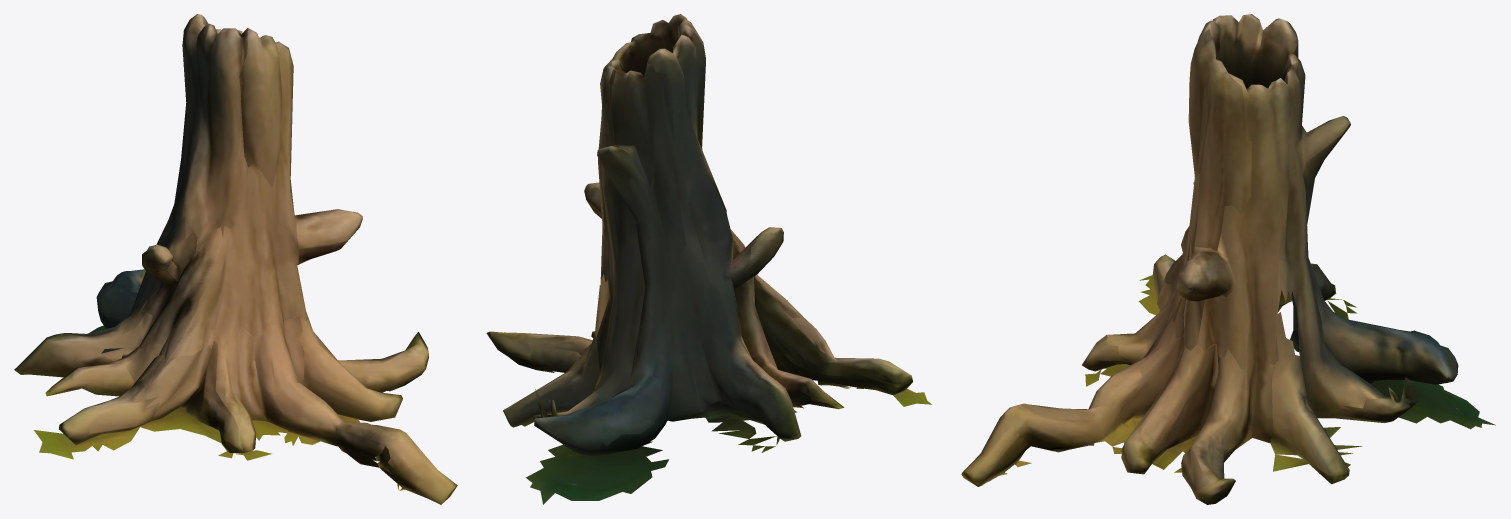
Rendered from terrain2_oak_0.glb.
The picture shows the model from 3 angles, left to right: view 1: azimuth 30°, elevation 25°; view 2: azimuth 150°, elevation 25°; view 3: azimuth 270°, elevation 25°; orthographic projection. The views are drawn at different scales.
Parts seen in each view (by area): view 1: oak_0; view 2: oak_0; view 3: oak_0.
Boxes of the visible parts, x1=… form: oak_0: x1=14, y1=14, x2=457, y2=504; oak_0: x1=486, y1=14, x2=931, y2=504; oak_0: x1=961, y1=14, x2=1495, y2=504.
Size of the model in its own units: 37.88 by 35.59 by 40.9.
1 material, 1 textured.
